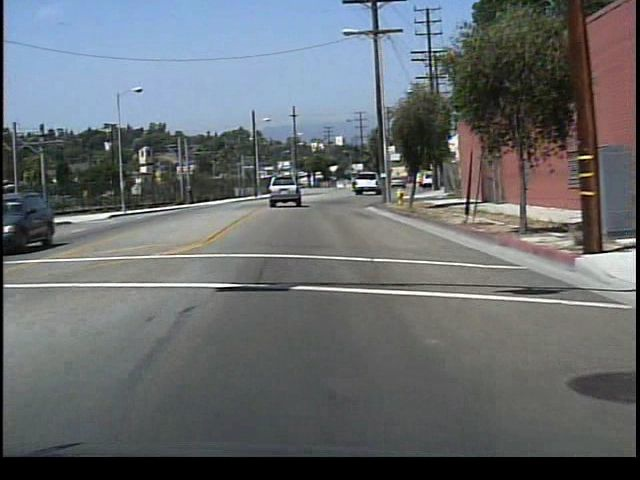person: (186, 180, 202, 204)
